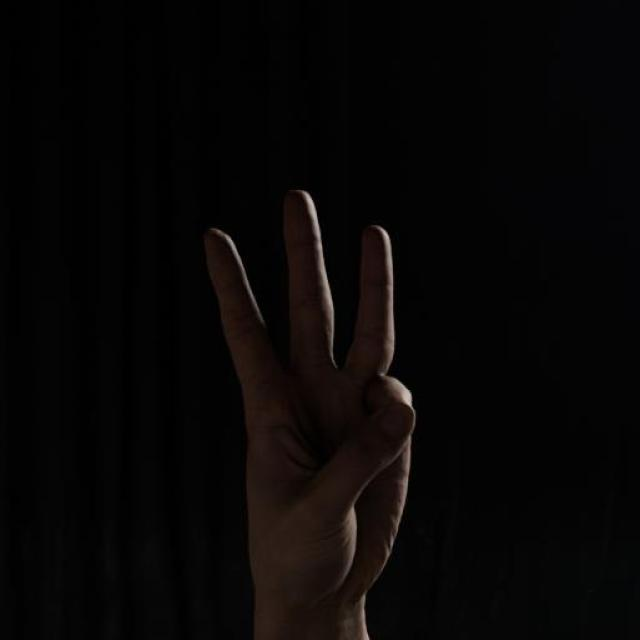W: (168, 188, 420, 618)
